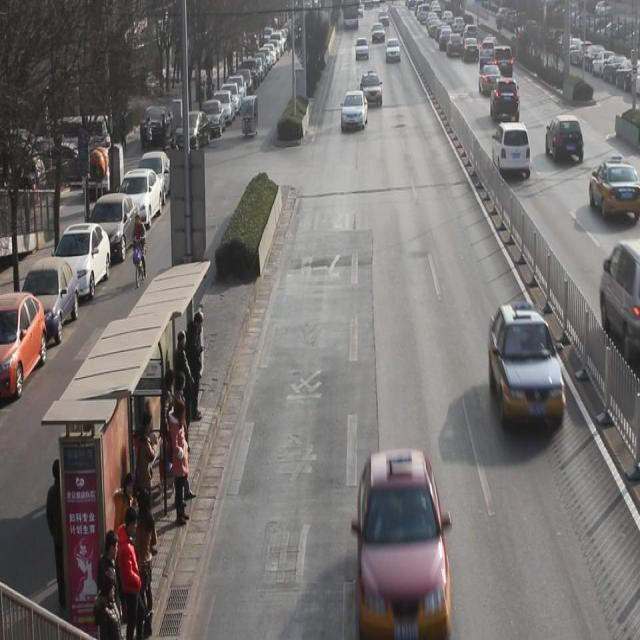car: (358, 452, 448, 615), (488, 302, 566, 430), (588, 154, 640, 219), (492, 124, 532, 182), (545, 114, 584, 166), (491, 78, 520, 122), (341, 90, 368, 132), (360, 71, 383, 107), (479, 61, 502, 94), (493, 46, 514, 78), (462, 38, 479, 64), (385, 38, 401, 65), (355, 36, 369, 61), (371, 22, 385, 46), (479, 41, 495, 61), (519, 22, 534, 43), (439, 27, 452, 50), (448, 34, 462, 55), (484, 33, 496, 51)
truck: (598, 244, 640, 352)
